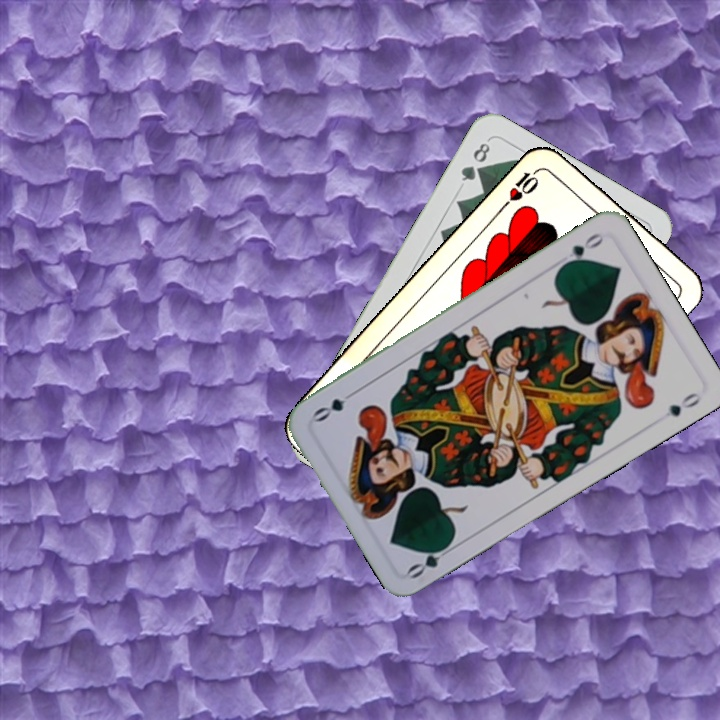G8: (457, 136, 493, 184)
GO: (403, 537, 458, 582), (557, 229, 607, 271)
H10: (498, 164, 543, 211)
